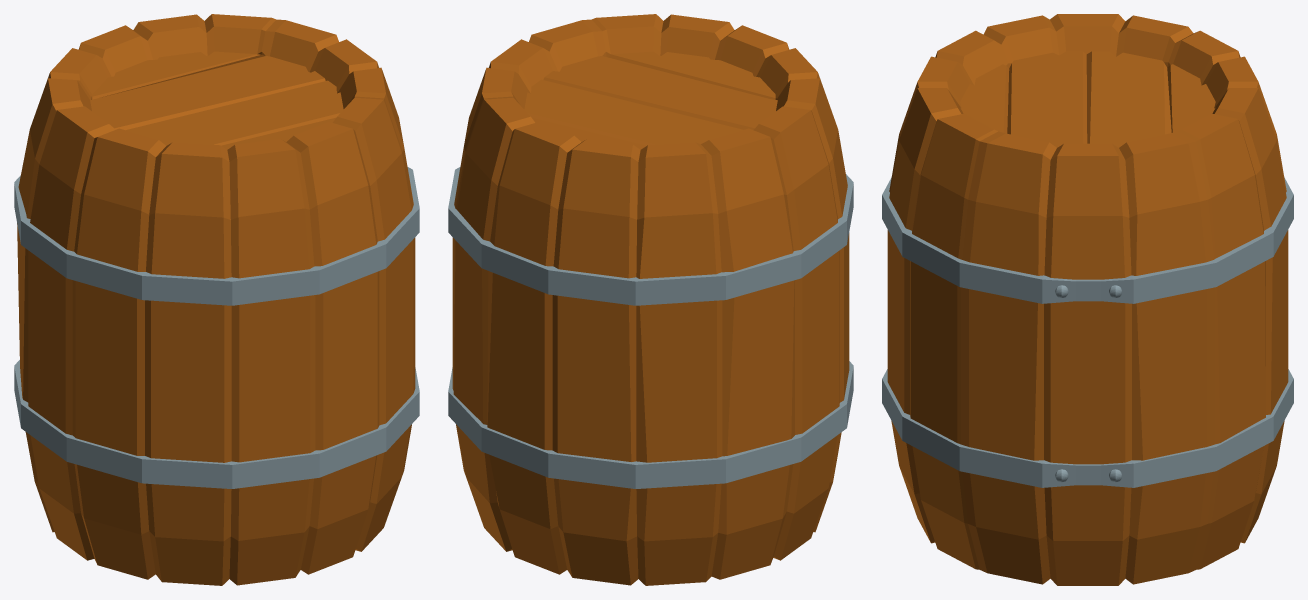
File: Barrel_Tex.fbx
3 views of the same model, side by side, from view 1: azimuth 30°, elevation 25°; view 2: azimuth 150°, elevation 25°; view 3: azimuth 270°, elevation 25° (orthographic).
Parts seen in each view (by area): view 1: ring; view 2: ring; view 3: ring.
Boxes of the visible parts, x1=… form: ring: x1=14, y1=14, x2=419, y2=585; ring: x1=448, y1=14, x2=853, y2=585; ring: x1=882, y1=14, x2=1293, y2=585.
Bounding box in the file's own units: 213 × 249 × 216.
Materials: 1 (1 with a texture image).
